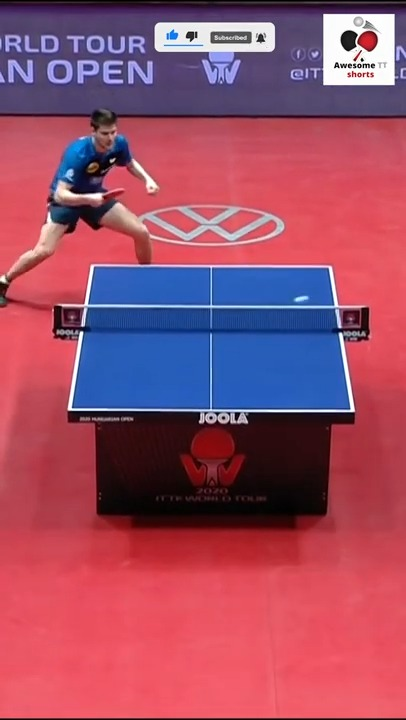Ball: (294, 296, 311, 304)
